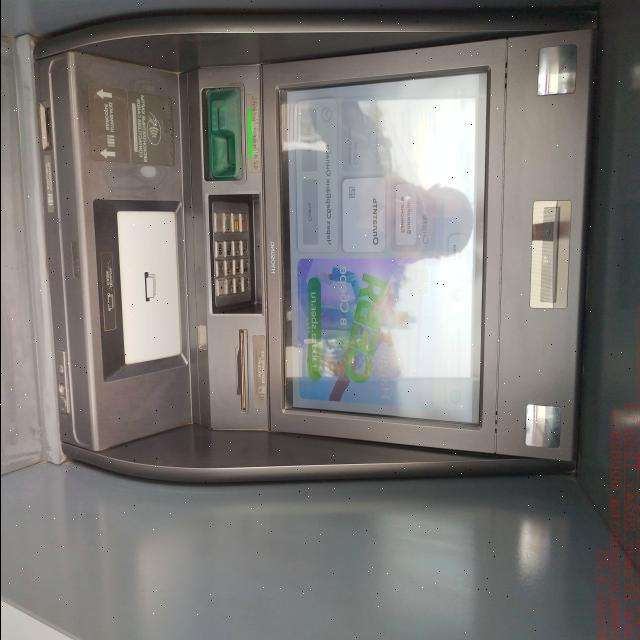bank: (0, 0, 595, 507)
